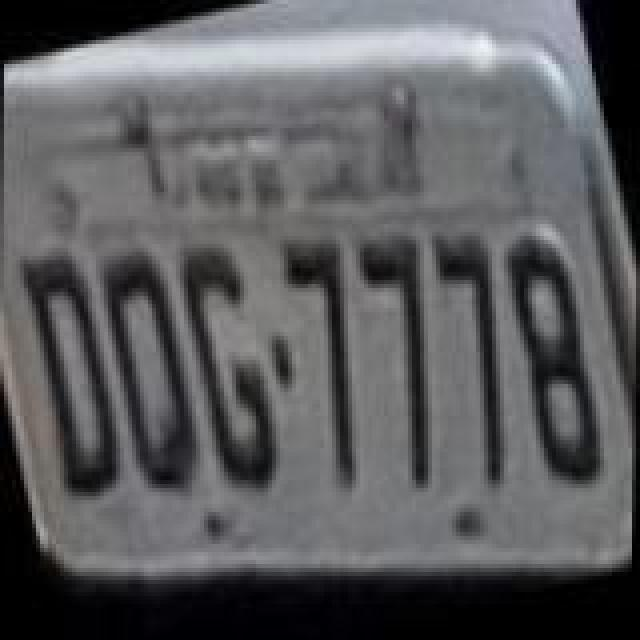7: (268, 222, 400, 498), (350, 224, 478, 500), (424, 218, 548, 494)
8: (490, 224, 626, 500)
D: (6, 242, 138, 510)
G: (170, 238, 298, 506)
Q: (86, 238, 222, 506)
